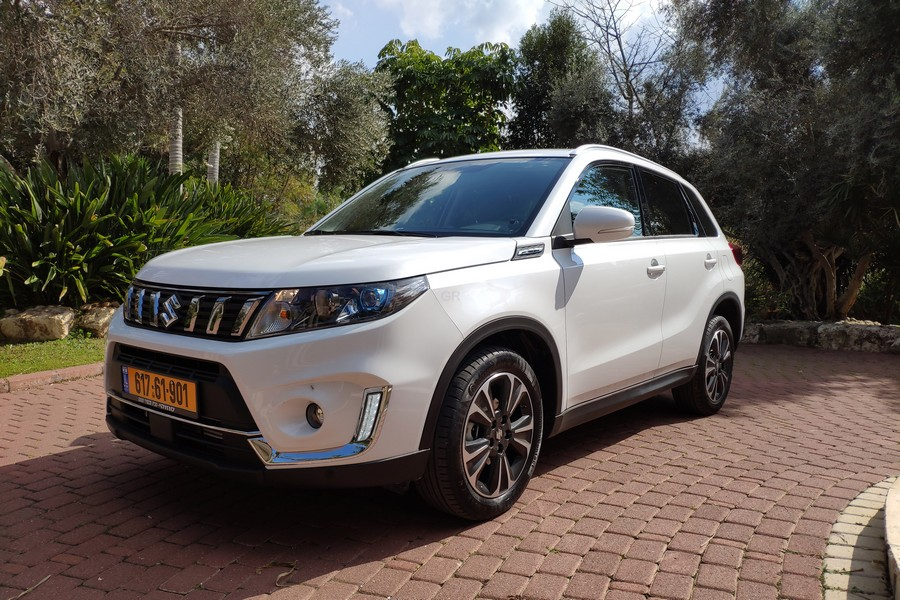licence: (119, 366, 199, 421)
